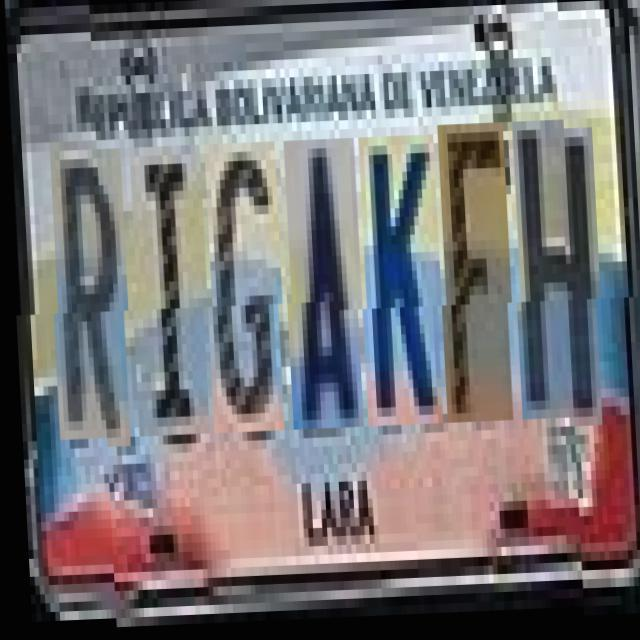A: (282, 141, 364, 432)
F: (436, 127, 514, 427)
G: (202, 144, 284, 435)
H: (510, 124, 602, 424)
I: (128, 146, 210, 438)
K: (357, 138, 442, 430)
R: (48, 150, 130, 450)
